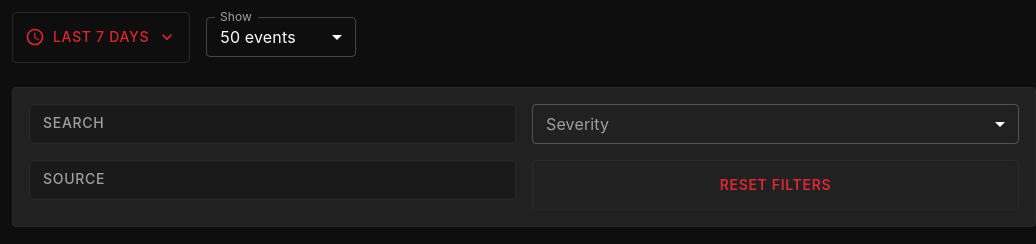
Test case: UserEventsFilters › should render limit options
Click the dropdown named "show": x=258, y=37 [220, 27, 296, 47]
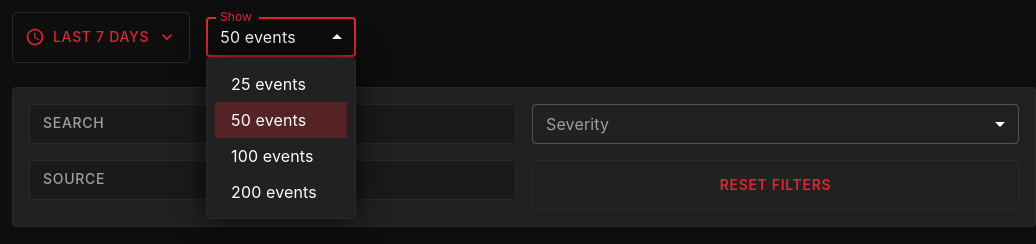
Check: the option "25 events" is shown, box [231, 74, 306, 94]
Check: the option "50 events" is shown, box [215, 102, 347, 138]
Check: the option "100 events" is shown, box [231, 146, 314, 166]
